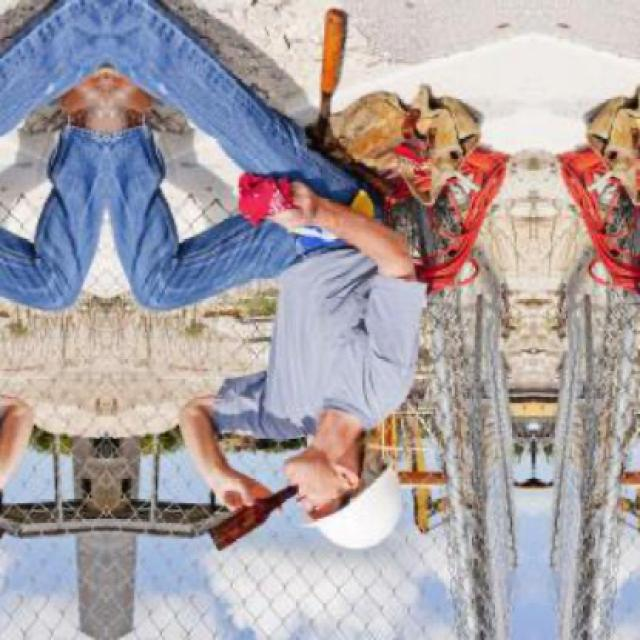con casco: (248, 366, 427, 568)
